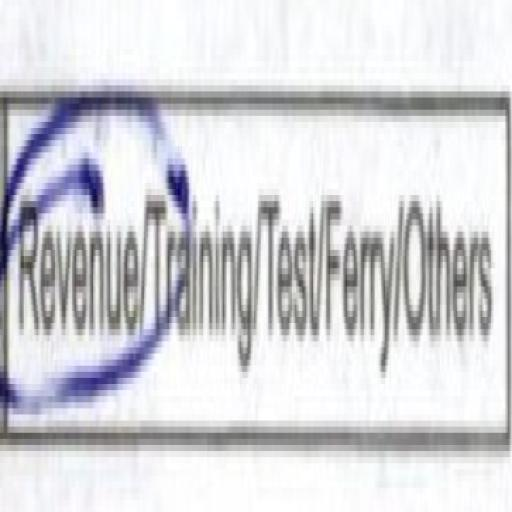check: (0, 6, 147, 439)
